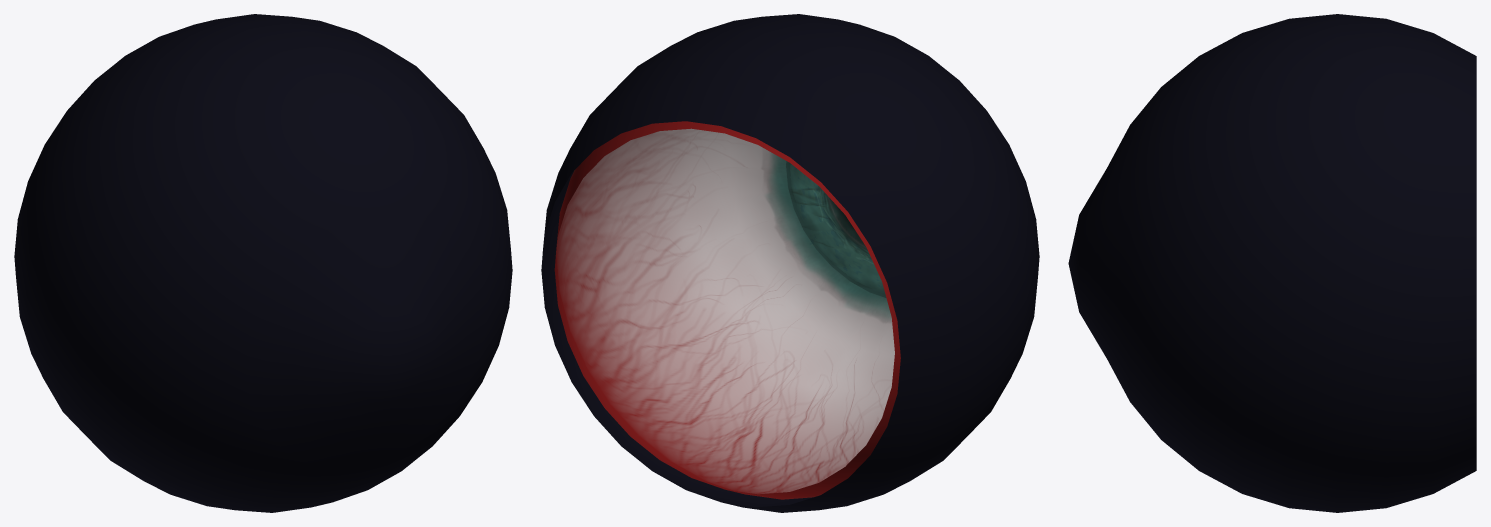
The model's file is eyeball.obj.
3 views of the same model, side by side, from view 1: azimuth 30°, elevation 25°; view 2: azimuth 150°, elevation 25°; view 3: azimuth 270°, elevation 25° (orthographic).
Parts seen in each view (by area): view 1: eyeball; view 2: eyeball; view 3: eyeball.
Boxes of the visible parts, x1,y1,x2,y2 form: eyeball: (14, 14, 512, 512); eyeball: (541, 14, 1039, 512); eyeball: (1068, 14, 1476, 512).
Bounding box in the file's own units: 0.0258 × 0.0258 × 0.0211.
